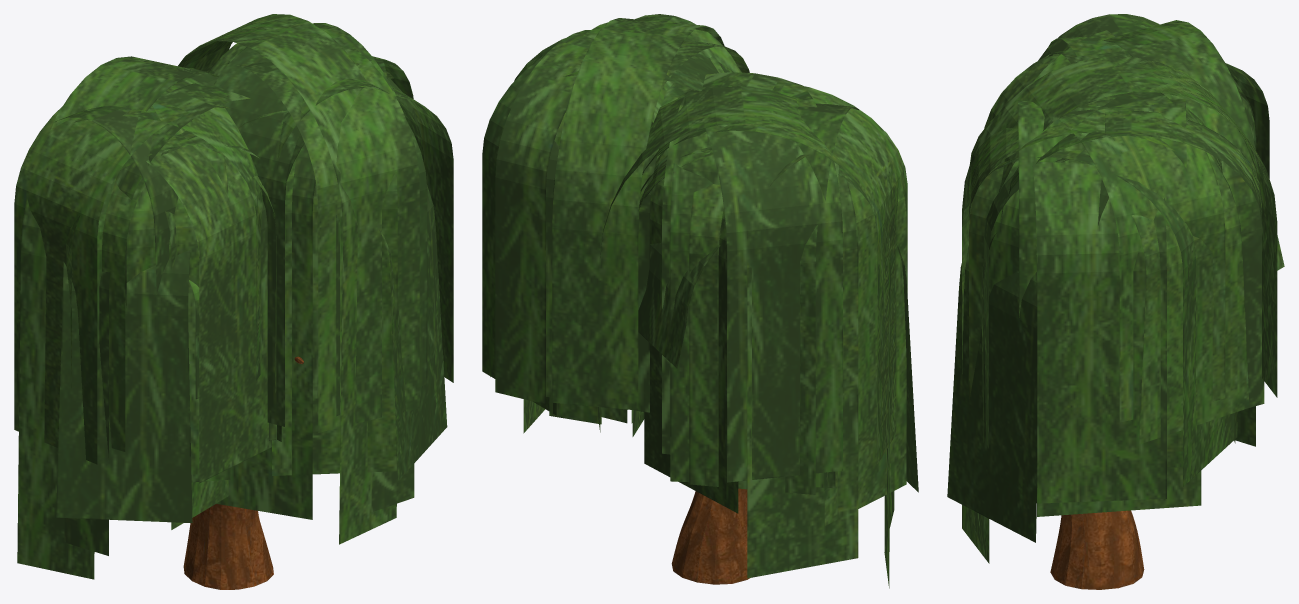
File: Willow_Tree_1.fbx
The picture shows the model from 3 angles, left to right: view 1: azimuth 30°, elevation 25°; view 2: azimuth 150°, elevation 25°; view 3: azimuth 270°, elevation 25°; orthographic projection. The views are drawn at different scales.
Parts seen in each view (by area): view 1: Cylinder.038, Cylinder.065, Tree_Bark.001; view 2: Cylinder.038, Cylinder.065, Tree_Bark.001; view 3: Cylinder.065, Cylinder.038, Tree_Bark.001.
Boxes of the visible parts, x1,y1,x2,y2 form: Cylinder.038: (14, 56, 276, 579); Cylinder.065: (178, 14, 453, 544); Tree_Bark.001: (183, 356, 303, 589); Cylinder.038: (598, 72, 918, 588); Cylinder.065: (482, 14, 749, 433); Tree_Bark.001: (671, 488, 749, 584); Cylinder.065: (947, 56, 1277, 563); Cylinder.038: (984, 14, 1284, 446); Tree_Bark.001: (1050, 510, 1144, 589).
Size of the model in its own units: 1079 by 1347 by 780.
